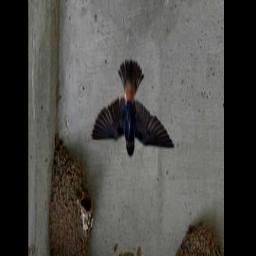Swallow: (91, 59, 177, 161)
